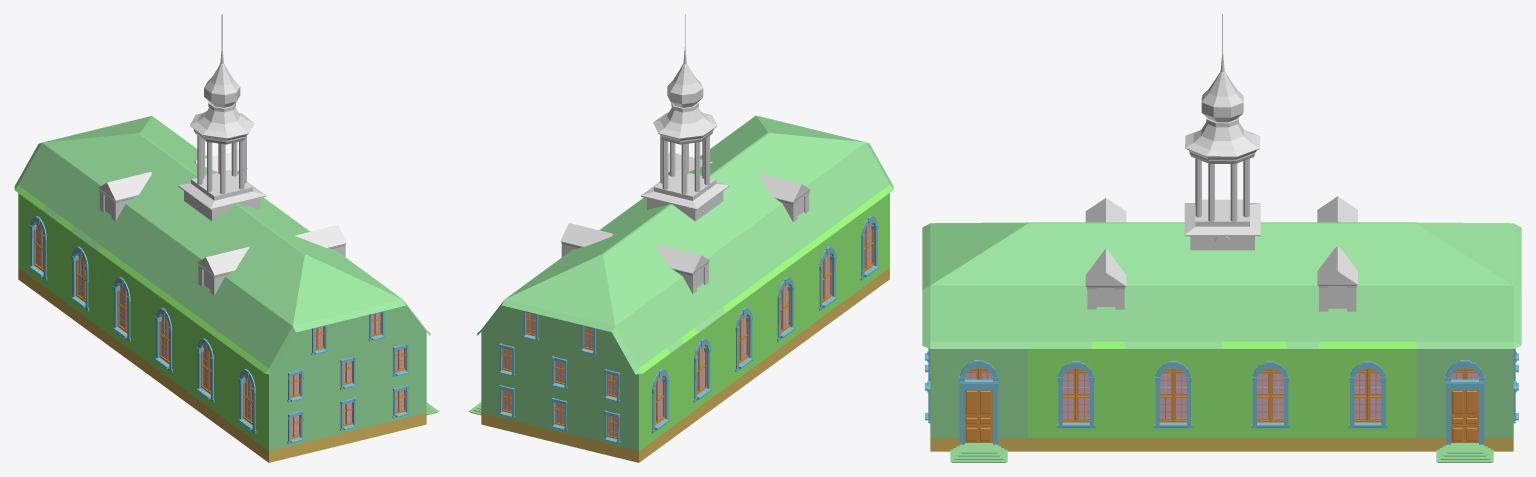
File: kirha.fbx
3 views of the same model, side by side, from view 1: azimuth 30°, elevation 25°; view 2: azimuth 150°, elevation 25°; view 3: azimuth 270°, elevation 25° (orthographic). The views are drawn at different scales.
Visible parts, largest first — view 1: Cube, Cube.001, Cube.002; view 2: Cube, Cube.001, Cube.002; view 3: Cube, Cube.001, Cube.002.
Boxes of the visible parts, x1=… form: Cube: x1=14, y1=116, x2=439, y2=462; Cube.001: x1=178, y1=14, x2=266, y2=220; Cube.002: x1=98, y1=150, x2=346, y2=295; Cube: x1=468, y1=115, x2=893, y2=462; Cube.001: x1=641, y1=14, x2=729, y2=221; Cube.002: x1=560, y1=151, x2=810, y2=293; Cube: x1=922, y1=222, x2=1521, y2=462; Cube.001: x1=1184, y1=14, x2=1260, y2=250; Cube.002: x1=1085, y1=196, x2=1357, y2=311.
Size of the model in its own units: 758 by 1337 by 1849.
